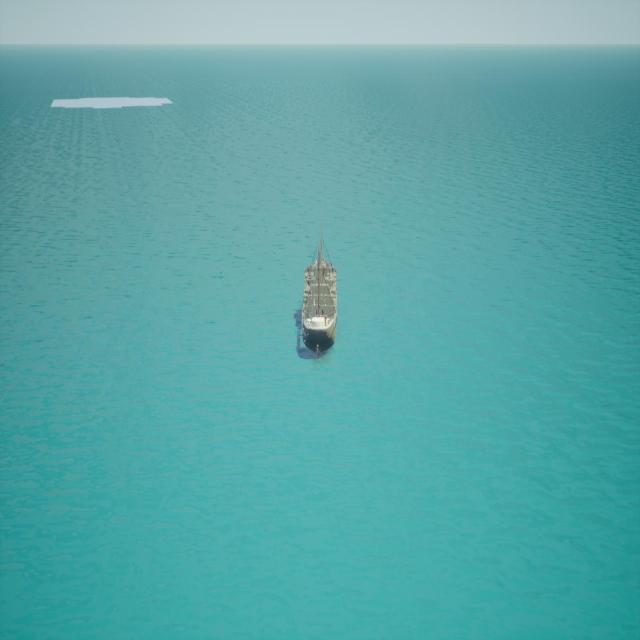fishing ship: (300, 227, 340, 360)
